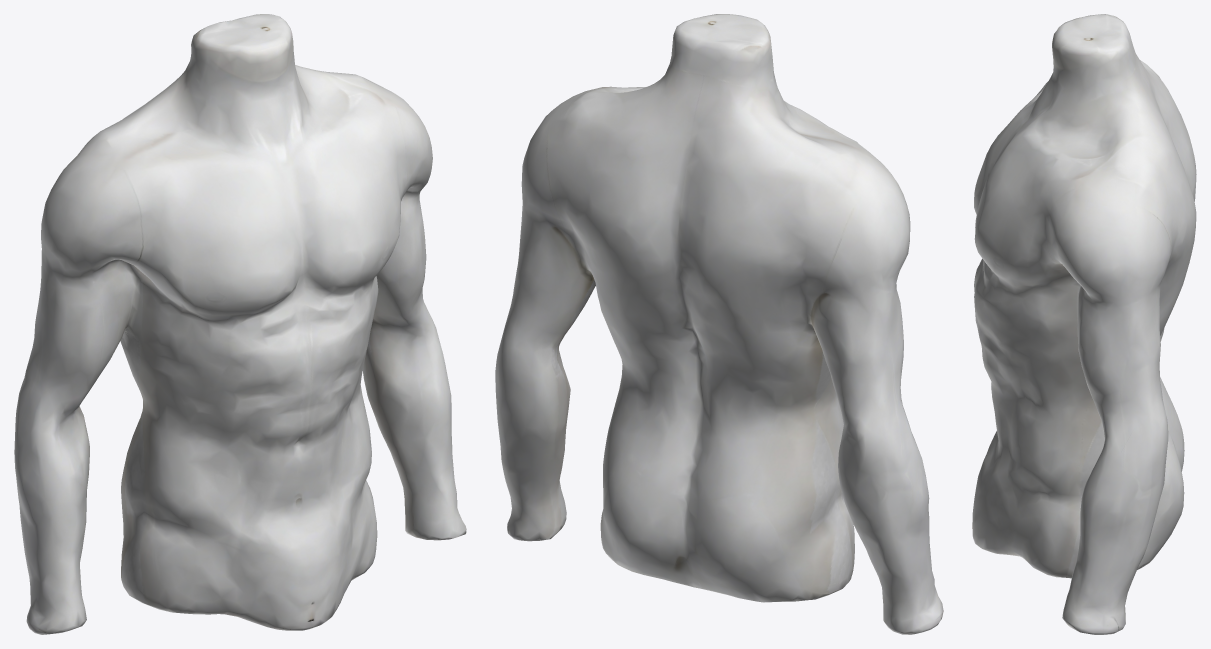
Rendered from Sculpted_Torso_0703085227_texture.glb.
3 views of the same model, side by side, from view 1: azimuth 30°, elevation 25°; view 2: azimuth 150°, elevation 25°; view 3: azimuth 270°, elevation 25° (orthographic). The views are drawn at different scales.
Size of the model in its own units: 1.62 by 2 by 0.7967.
Materials: 1 (1 with a texture image).
